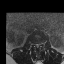CCS_normal: (36, 42, 38, 49)
LFS_severe_stenosis: (40, 41, 42, 46)
LLS_normal: (38, 42, 40, 47)
RFS_severe_stenosis: (33, 41, 35, 46)
RLS_normal: (35, 42, 36, 47)
